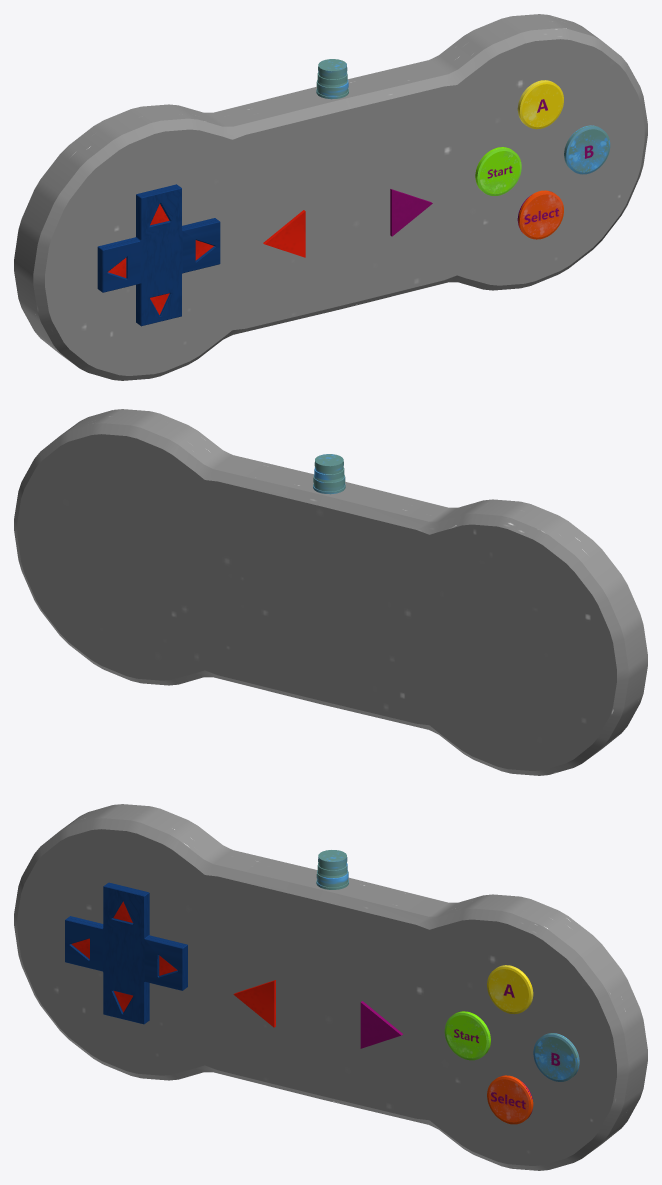
Rendered from controller.fbx.
3 views of the same model, one above another, from view 1: azimuth 30°, elevation 25°; view 2: azimuth 150°, elevation 25°; view 3: azimuth 330°, elevation 25° (orthographic).
Visible parts, largest first — view 1: pasted__pPrism1; view 2: pasted__pPrism1; view 3: pasted__pPrism1.
Boxes of the visible parts, x1,y1,x2,y2 form: pasted__pPrism1: (14,14,647,380); pasted__pPrism1: (14,409,647,775); pasted__pPrism1: (14,804,647,1170).
Size of the model in its own units: 5 by 2.02 by 0.4626.
Materials: 6 (6 with a texture image).
